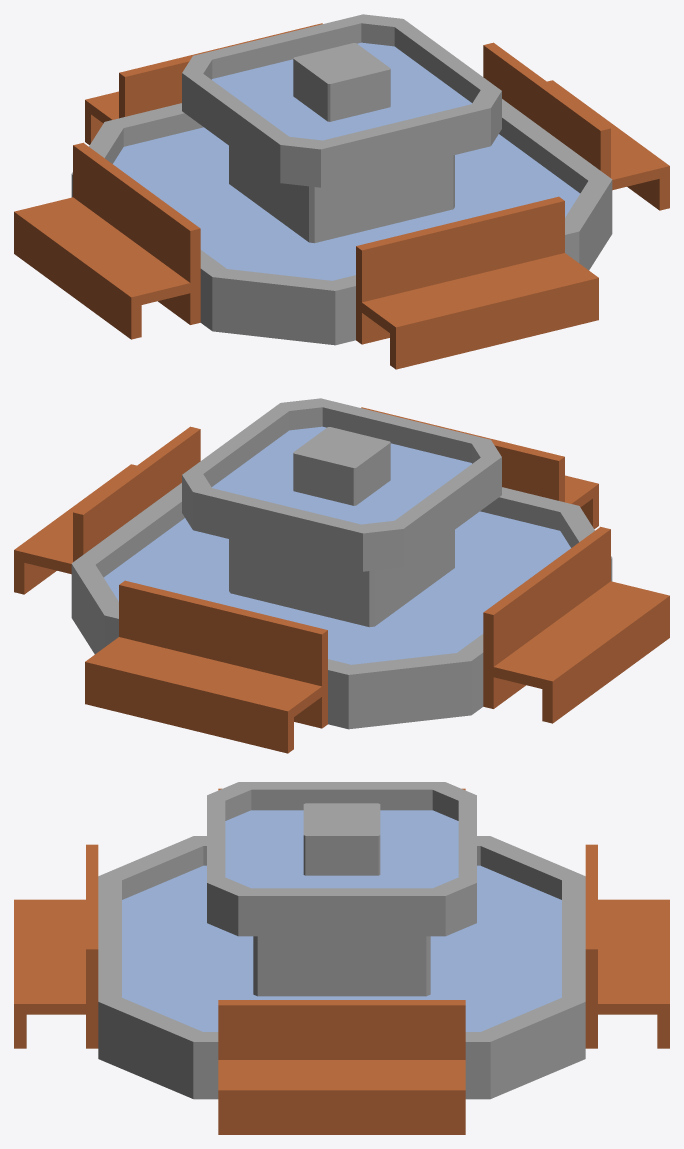
Rendered from Platform16Reworked_withoutfloor.fbx.
3 views of the same model, one above another, from view 1: azimuth 30°, elevation 25°; view 2: azimuth 150°, elevation 25°; view 3: azimuth 270°, elevation 25° (orthographic). The views are drawn at different scales.
Parts seen in each view (by area): view 1: Cube.265, Cube.267, Cube.269; view 2: Cube.265, Cube.267, Cube.269; view 3: Cube.265, Cube.269, Cube.267.
Part boxes in pixels (left/top/right/bottom): Cube.265: left=71, top=14, right=612, bottom=345; Cube.267: left=85, top=23, right=598, bottom=369; Cube.269: left=14, top=42, right=669, bottom=339; Cube.265: left=71, top=398, right=612, bottom=729; Cube.267: left=85, top=407, right=598, bottom=753; Cube.269: left=14, top=426, right=669, bottom=723; Cube.265: left=98, top=782, right=585, bottom=1099; Cube.269: left=218, top=788, right=465, bottom=1134; Cube.267: left=14, top=844, right=669, bottom=1048.
Size of the model in its own units: 471 by 140 by 471.
